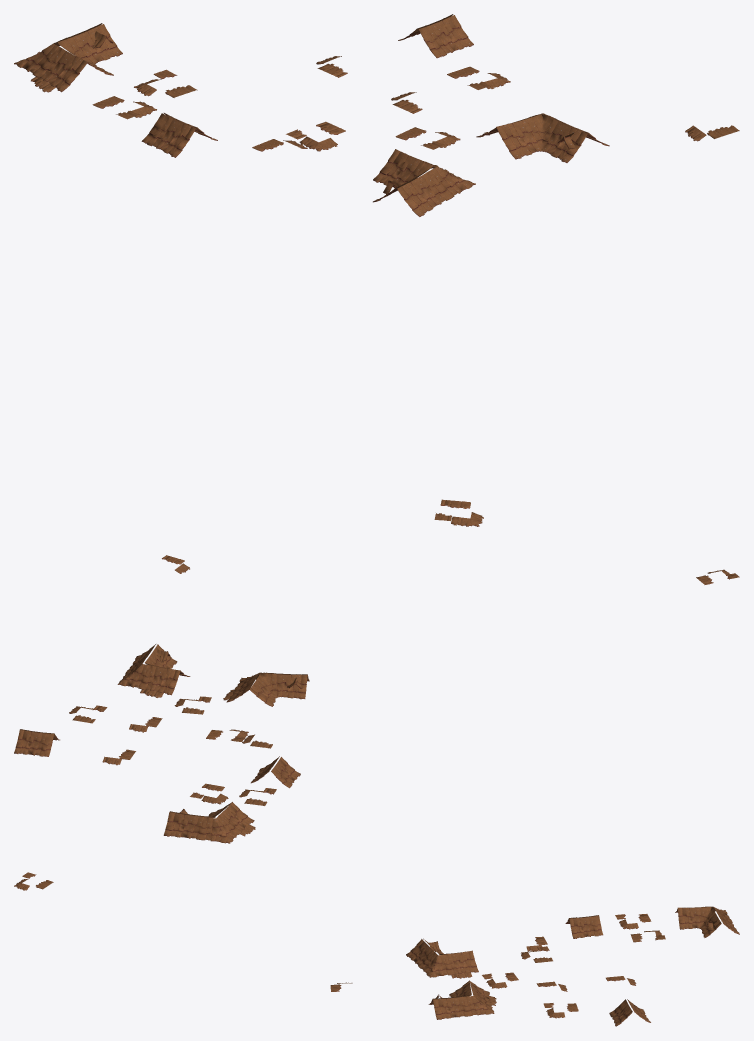
File: WoodRoofExport.FBX
3 views of the same model, one above another, from view 1: azimuth 30°, elevation 25°; view 2: azimuth 150°, elevation 25°; view 3: azimuth 270°, elevation 25° (orthographic). The views are drawn at different scales.
Parts seen in each view (by area): view 1: Object2383; view 2: Object2383; view 3: Object2383.
Part boxes in pixels (bbox=[...]): Object2383: bbox=[14, 14, 739, 526]; Object2383: bbox=[14, 555, 739, 843]; Object2383: bbox=[14, 872, 739, 1026].
Bounding box in the file's own units: 222 × 32.25 × 410.
